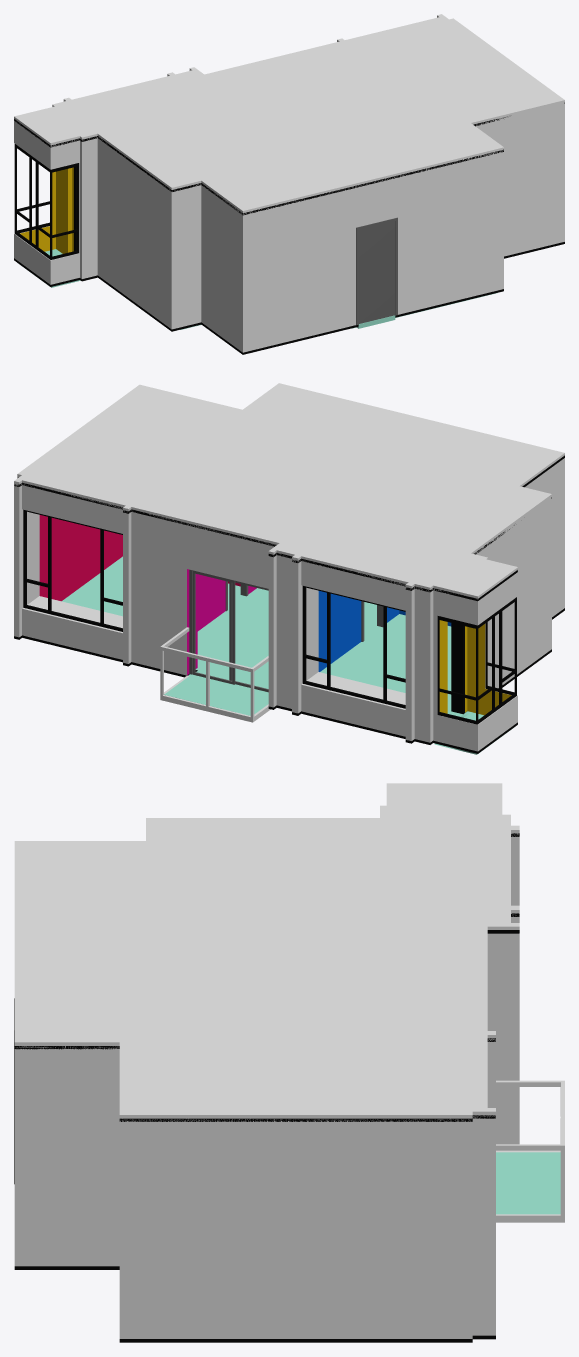
File: theavenue_b_7f.fbx
3 views of the same model, one above another, from view 1: azimuth 30°, elevation 25°; view 2: azimuth 150°, elevation 25°; view 3: azimuth 270°, elevation 25° (orthographic). The views are drawn at different scales.
Visible parts, largest first — view 1: ceiling, wall_o_01, wall_o_02, wall_o_05, wall_o_013, wall_o_03, wall_o_04, door_m_01, window_d_05, wall_o_06, wall_c_01, wall_bottom (+3 smaller); view 2: ceiling, wall_o_08, wall_o_011, wall_o_05, wall_o_010, floor_01, wall_o_012, wall_o_07, floor_03, wall_o_09, wall_c_02, window_d_05 (+16 smaller); view 3: ceiling, wall_o_012, wall_o_014, wall_o_08, wall_o_011, floor_06, balcony_01, wall_top1, wall_bottom.
Boxes of the visible parts, <box> form: ceiling: <box>14,14,564,214</box>; wall_o_01: <box>350,152,503,326</box>; wall_o_02: <box>243,189,350,352</box>; wall_o_05: <box>80,138,171,328</box>; wall_o_013: <box>476,104,564,256</box>; wall_o_03: <box>201,185,242,352</box>; wall_o_04: <box>171,185,201,329</box>; door_m_01: <box>356,217,397,325</box>; window_d_05: <box>14,144,78,259</box>; wall_o_06: <box>14,121,50,284</box>; wall_c_01: <box>50,140,79,284</box>; wall_bottom: <box>14,242,564,354</box>; ceiling: <box>14,383,564,599</box>; wall_o_08: <box>268,555,414,740</box>; wall_o_011: <box>14,485,149,666</box>; wall_o_05: <box>465,499,551,711</box>; wall_o_010: <box>150,516,197,675</box>; floor_01: <box>195,588,377,687</box>; wall_o_012: <box>39,515,122,601</box>; wall_o_07: <box>414,589,447,742</box>; floor_03: <box>320,614,451,713</box>; wall_o_09: <box>187,525,274,588</box>; wall_c_02: <box>433,590,477,751</box>; window_d_05: <box>437,597,516,724</box>; ceiling: <box>14,783,519,1121</box>; wall_o_012: <box>119,1122,472,1338</box>; wall_o_014: <box>14,1049,119,1266</box>; wall_o_08: <box>487,837,519,1144</box>; wall_o_011: <box>472,1042,495,1335</box>; floor_06: <box>496,1152,560,1214</box>; balcony_01: <box>496,1080,564,1222</box>; wall_top1: <box>14,833,519,1121</box>; wall_bottom: <box>14,1266,495,1342</box>.
Size of the model in its own units: 1017 by 330 by 714.
